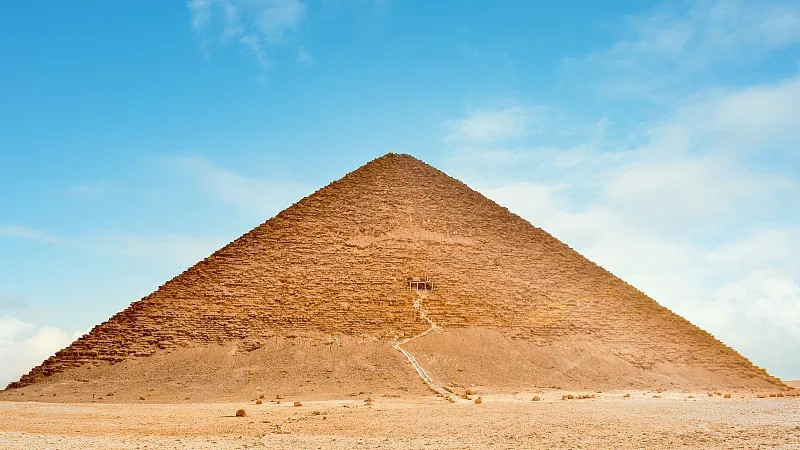Pyramid: (6, 153, 795, 394)
